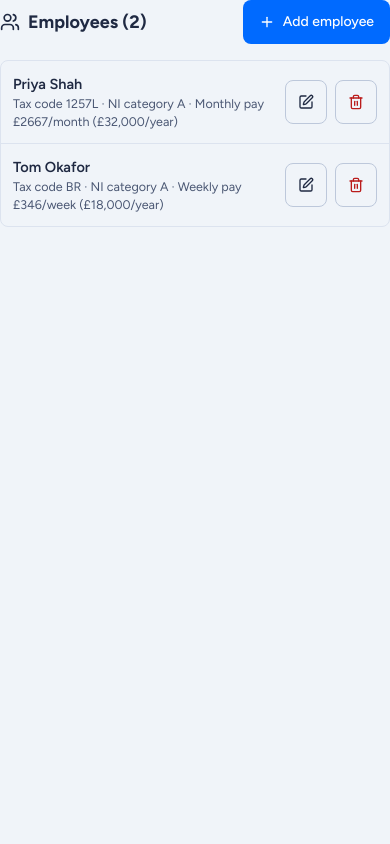
Scenario: EmployeeList › Edit opens the form prefilled with that employee
Click the button named "Edit Tom Okafor": (306, 185) x1=285 y1=163 x2=327 y2=207
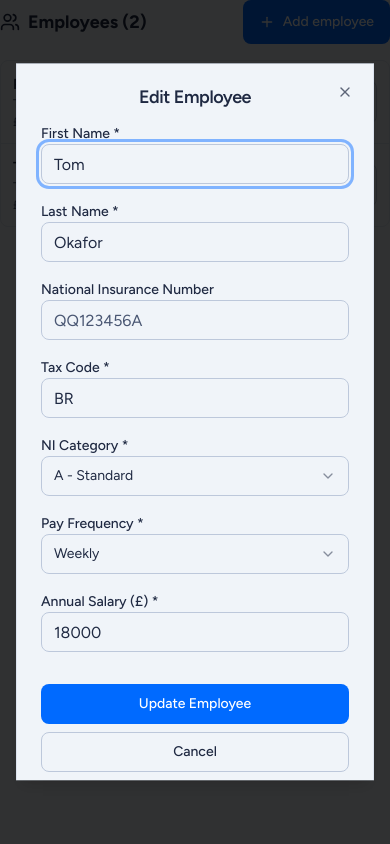
Now the field showing "Okafor" is shown, box x1=41 y1=222 x2=349 y2=262
